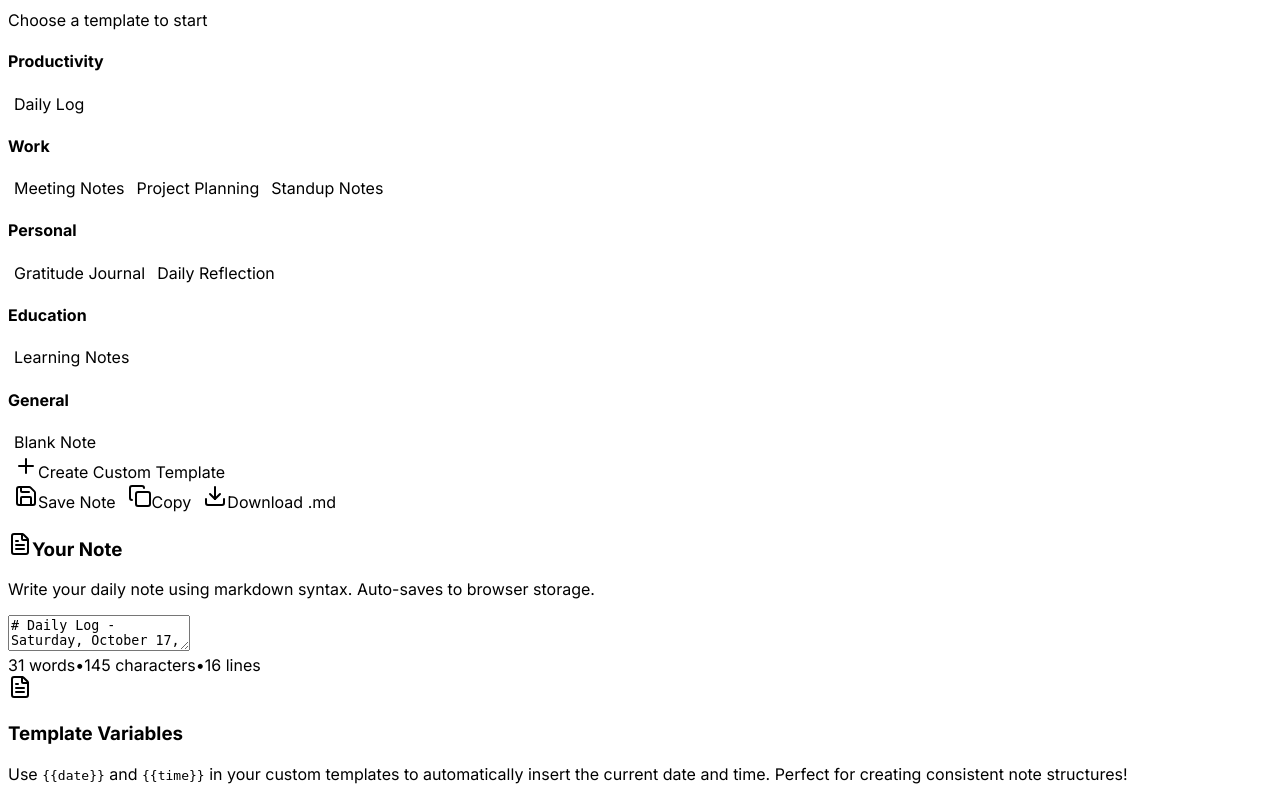
Test: Daily Note Page - Statistics Tests › should display word count
(page scrolled)
Type some content (6 words)
Replace the text in the text box with placeholder "Start writing your note here..." with "Hello world this is a test" at (99, 633), box [8, 615, 190, 651]
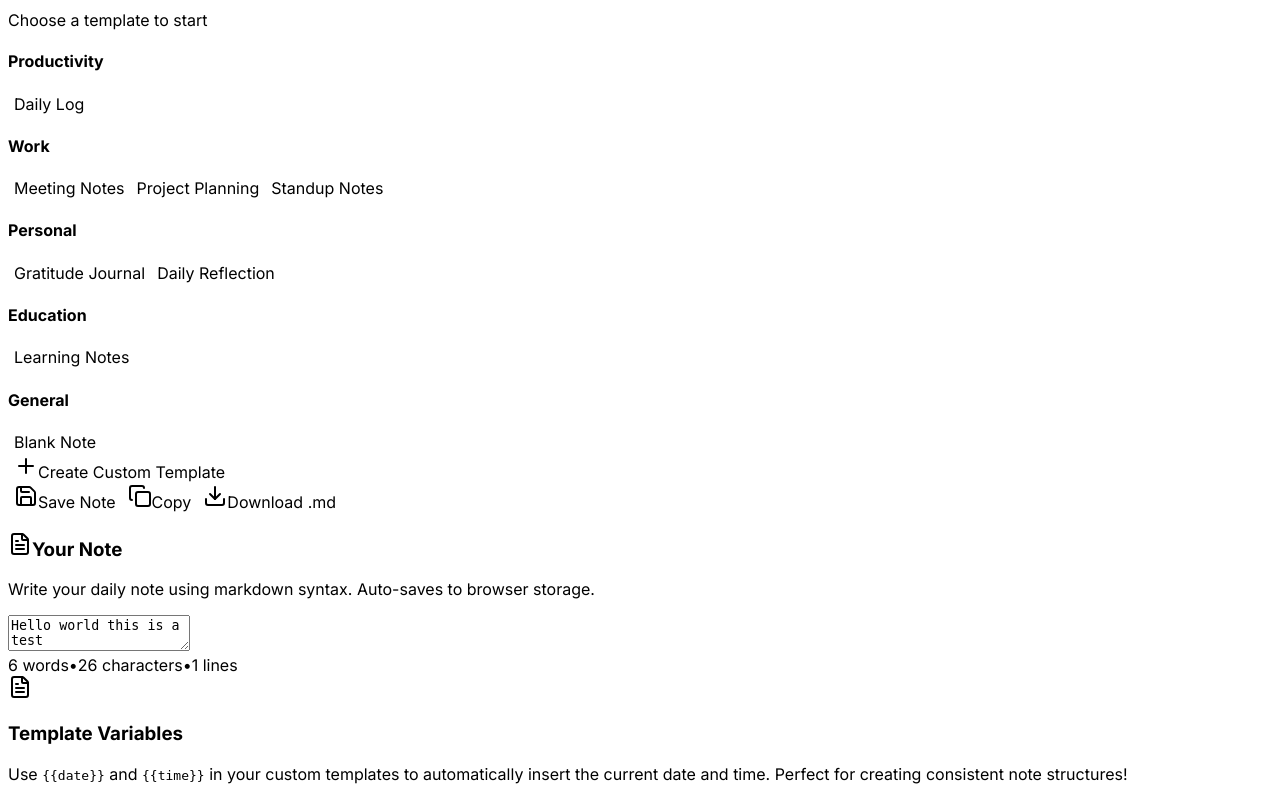
Result: the text "6 words" is shown at [8, 655, 69, 675]
